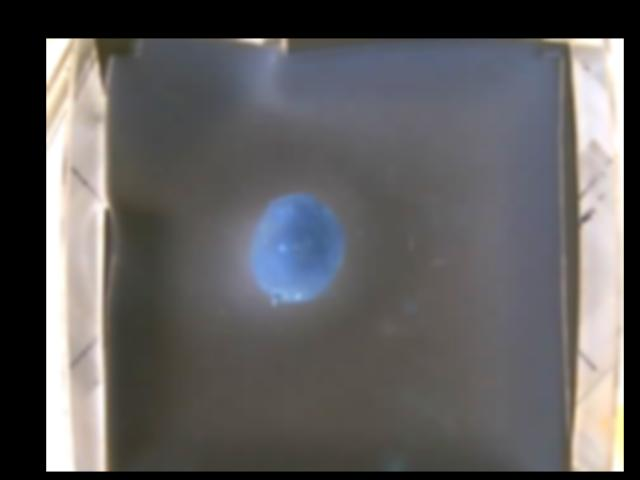Potato: (251, 196, 344, 307)
